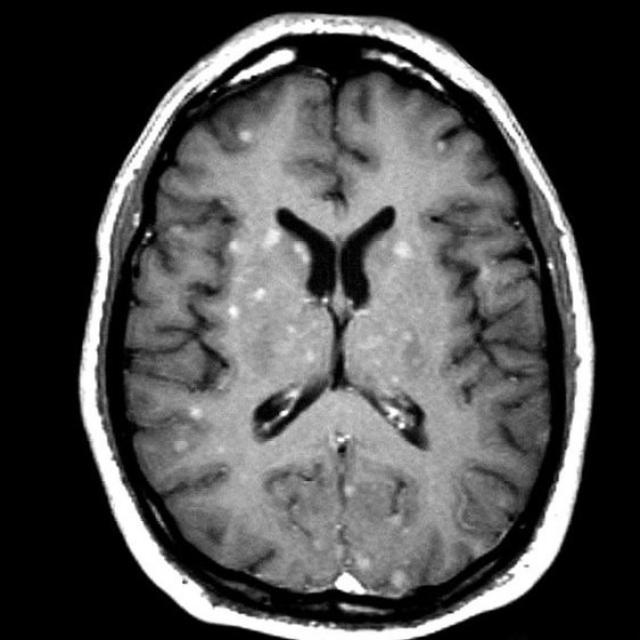notumor: (80, 24, 592, 639)
